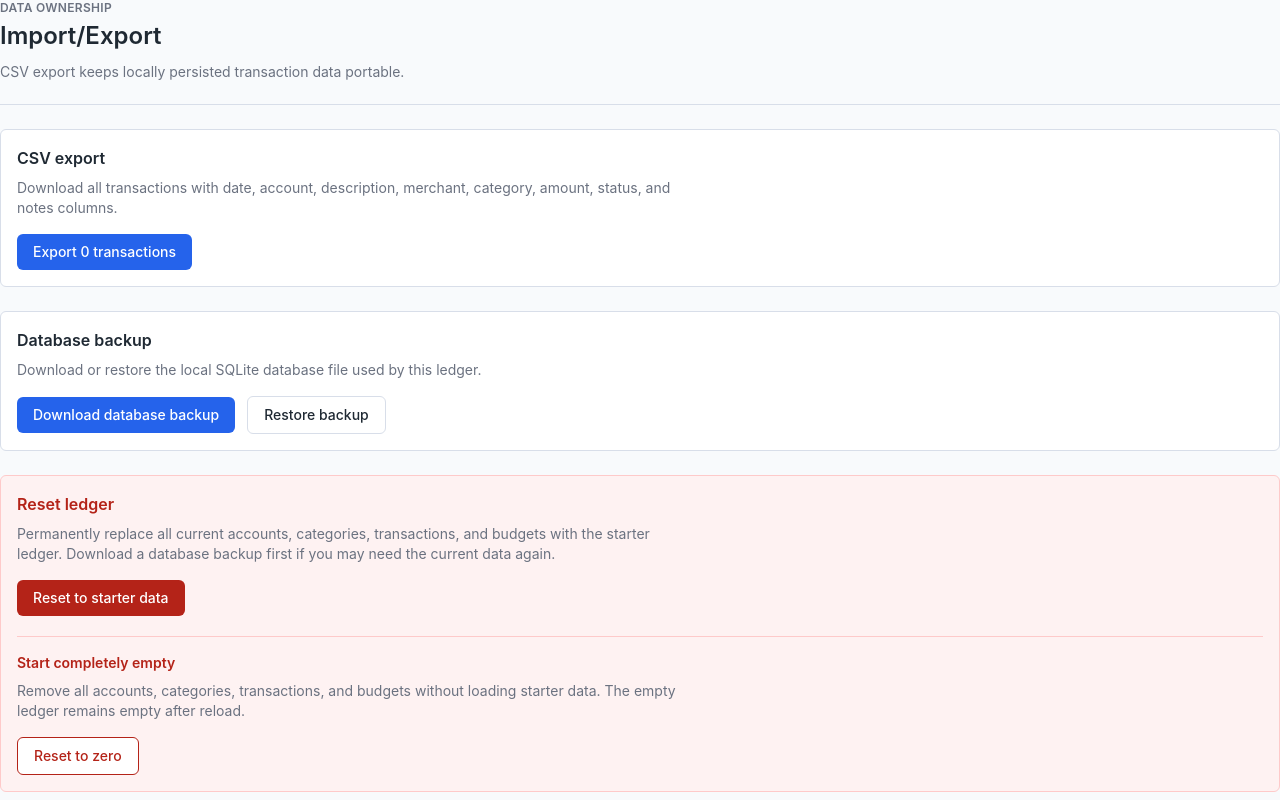
Test: ImportExportPage › announces reset failures as alerts
What coordinates should you click on to do the following:
click the button "Reset to zero"
I would click on:
 (78, 756)
Its box is [17,737,139,775].
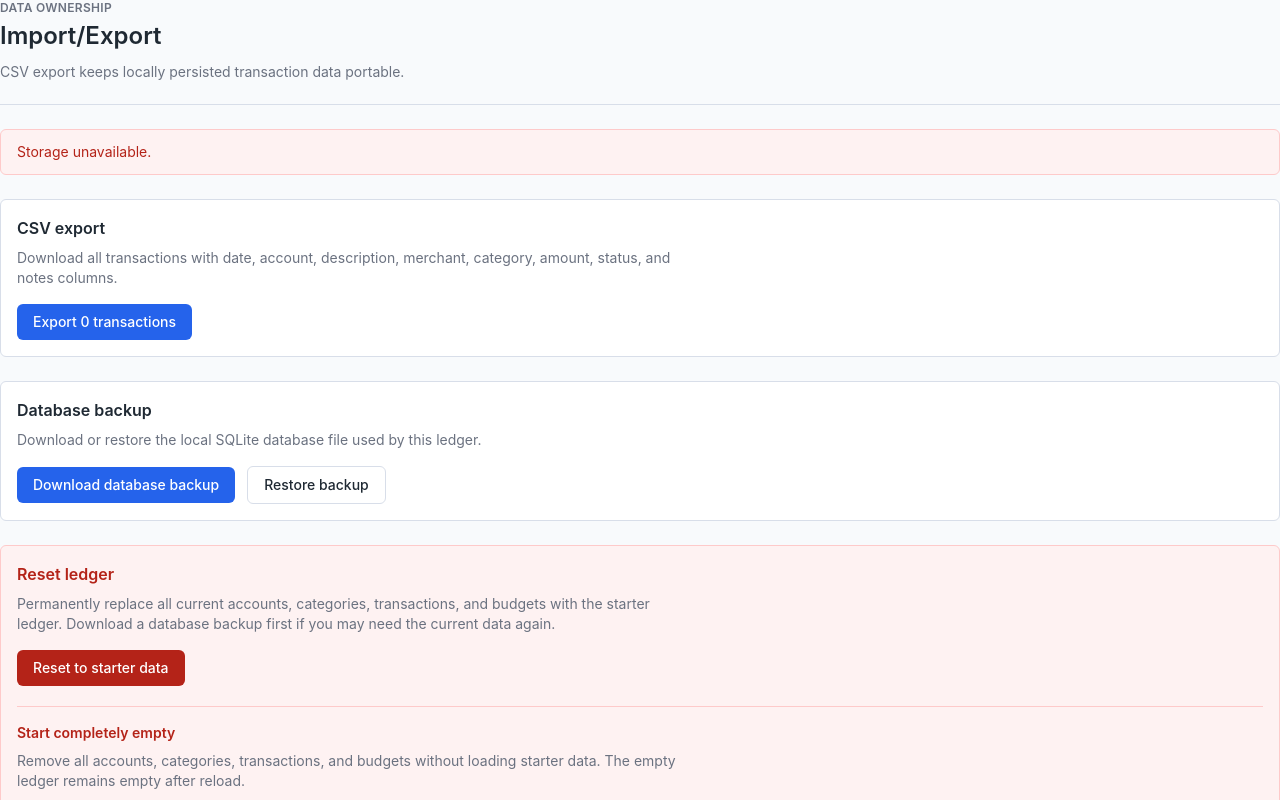
Check: the message reads "Storage unavailable.", box [17,143,151,160]
